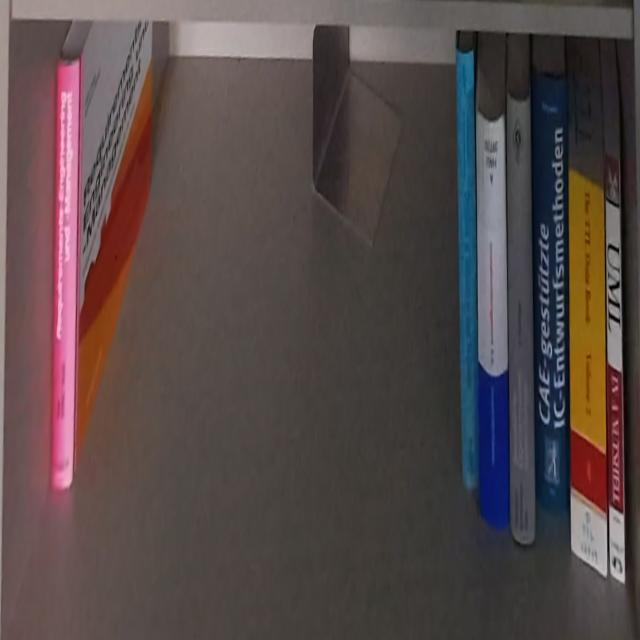Book Spine: (532, 67, 571, 515), (569, 174, 606, 582), (506, 89, 536, 554), (51, 56, 82, 491), (477, 118, 509, 525), (454, 42, 479, 491), (605, 153, 624, 583)
